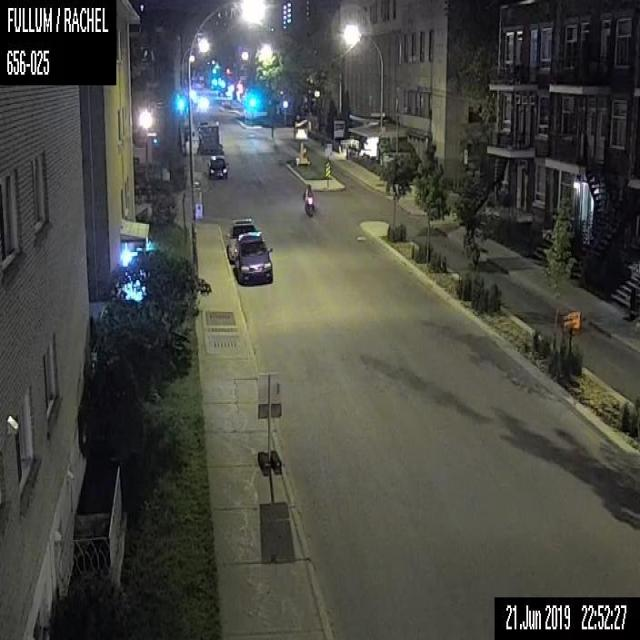construction: (292, 126, 310, 166), (566, 310, 580, 328)
cyclist: (302, 183, 314, 215)
vehicle: (233, 232, 272, 282), (225, 216, 263, 262), (207, 154, 228, 177)
